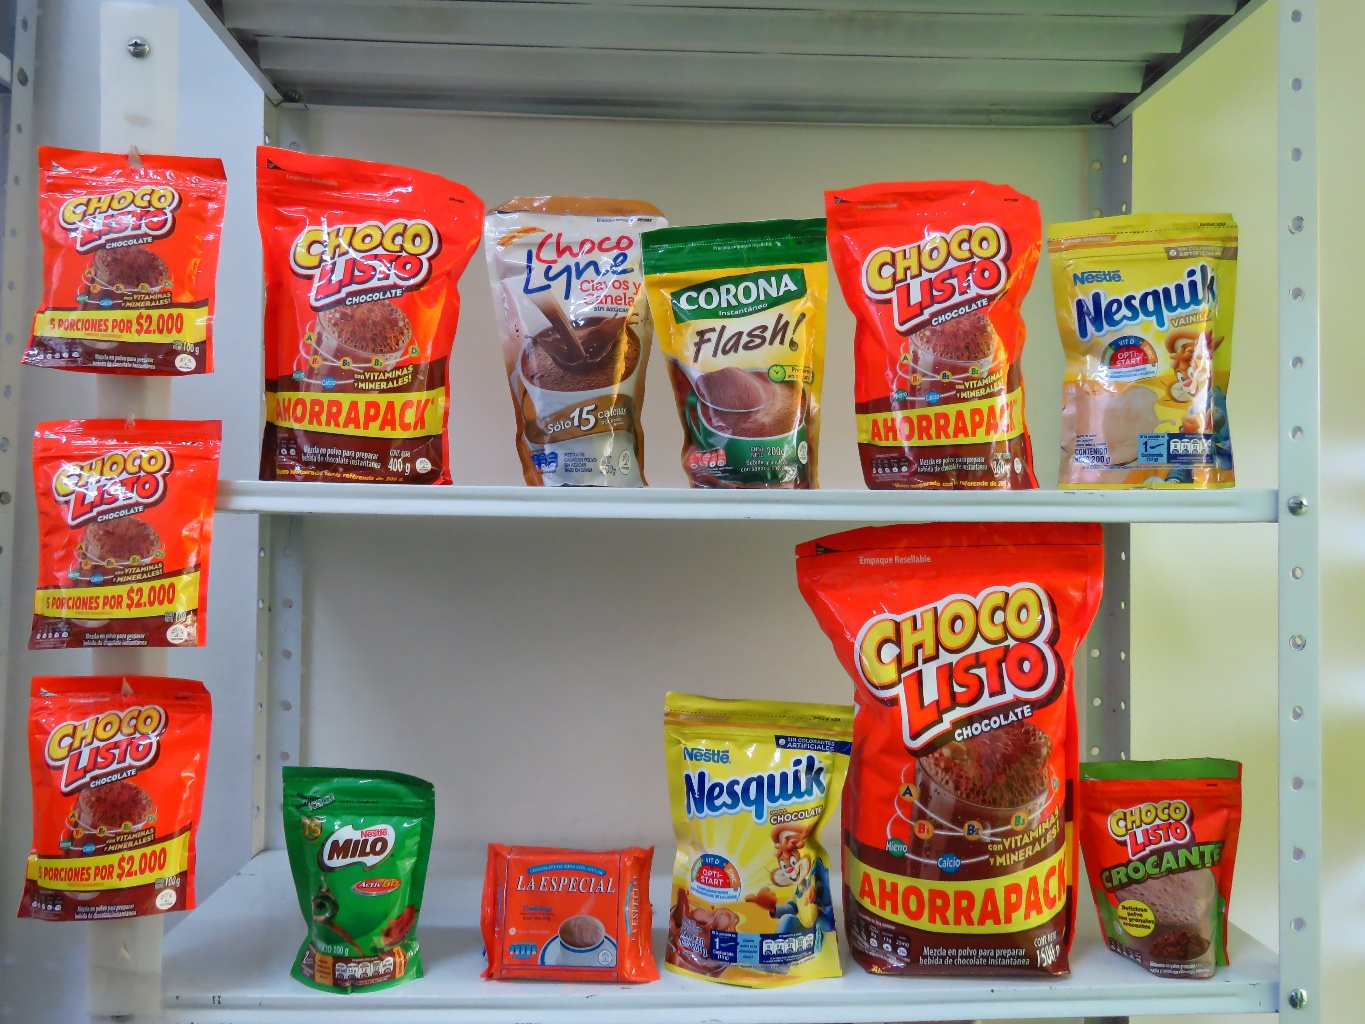COL0170102DYP10000: (1080, 749, 1250, 982)
COL0170103DYP1,500: (806, 520, 1103, 982)
COL0170103DYP10000: (10, 672, 207, 923)
COL0170103DYP36000: (828, 183, 1050, 488)
COL0170103DYP40000: (252, 134, 481, 477)
COL0170203DYP10000: (268, 752, 457, 996)
COL0170303DYP20000: (654, 678, 857, 989)
COL0170306DYP20000: (1050, 204, 1238, 488)
